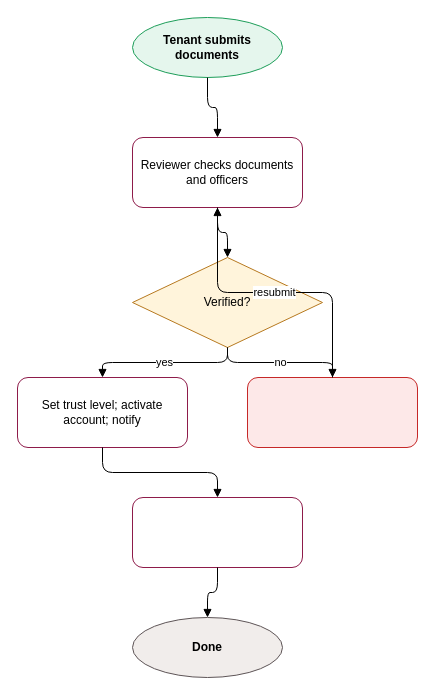
Image size: 435x695. Some labels were removed from this diagram. The centre of each missing label's shape, as x and y in pixels:
"Reject with reason; allow resubmission" goes at point 332,412.
"Schedule periodic re-verification" goes at point 217,532.
